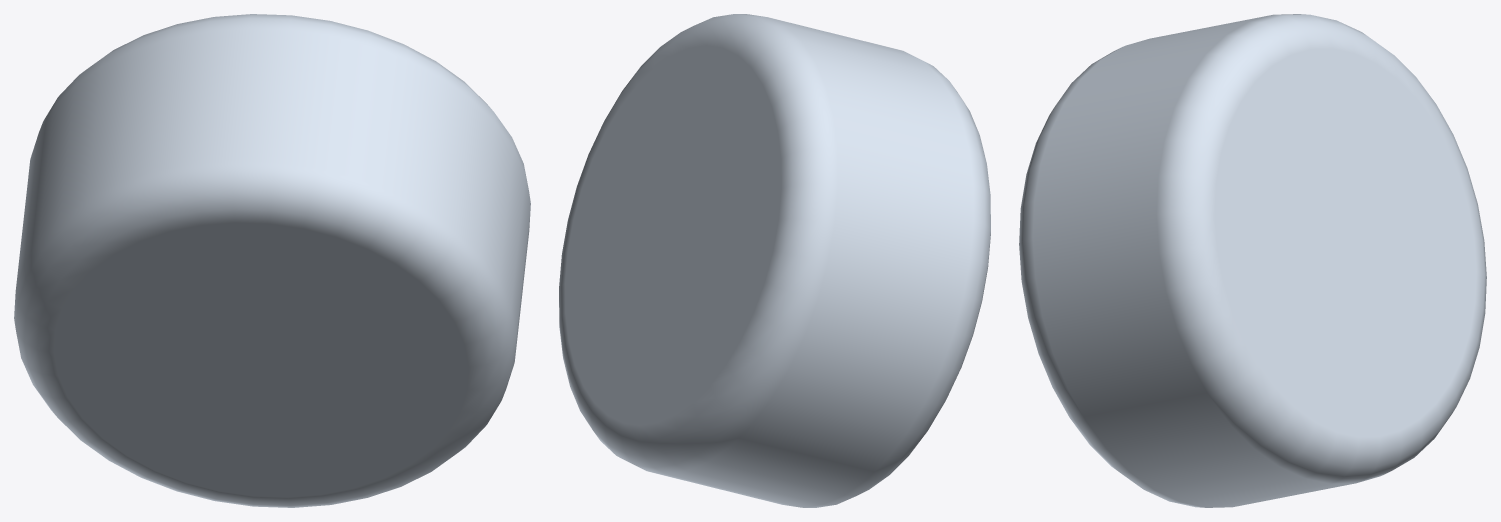
File: RB-029_viewer.glb
The picture shows the model from 3 angles, left to right: view 1: azimuth 30°, elevation 25°; view 2: azimuth 150°, elevation 25°; view 3: azimuth 270°, elevation 25°; orthographic projection. The views are drawn at different scales.
Visible parts, largest first — view 1: basebody_imported1; view 2: basebody_imported1; view 3: basebody_imported1.
Boxes of the visible parts, x1,y1,x2,y2 form: basebody_imported1: [14, 14, 530, 507]; basebody_imported1: [559, 14, 990, 507]; basebody_imported1: [1019, 14, 1486, 507].
Size of the model in its own units: 0.00607 by 0.00614 by 0.00565.
